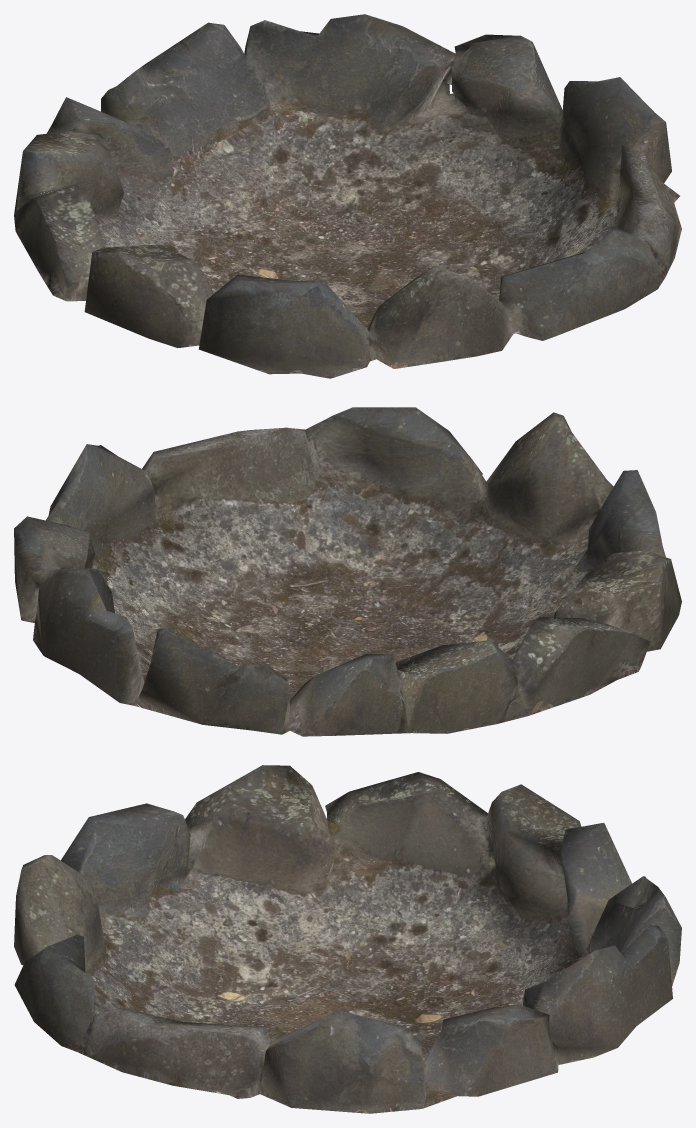
Rendered from campfire.glb.
3 views of the same model, one above another, from view 1: azimuth 30°, elevation 25°; view 2: azimuth 150°, elevation 25°; view 3: azimuth 270°, elevation 25° (orthographic).
Visible parts, largest first — view 1: stone_fire_pit; view 2: stone_fire_pit; view 3: stone_fire_pit.
Part boxes in pixels (bbox=[...]): stone_fire_pit: bbox=[14, 14, 681, 378]; stone_fire_pit: bbox=[14, 407, 681, 736]; stone_fire_pit: bbox=[14, 765, 681, 1113].
Size of the model in its own units: 1.45 by 0.3811 by 1.43.
Materials: 1 (1 with a texture image).
